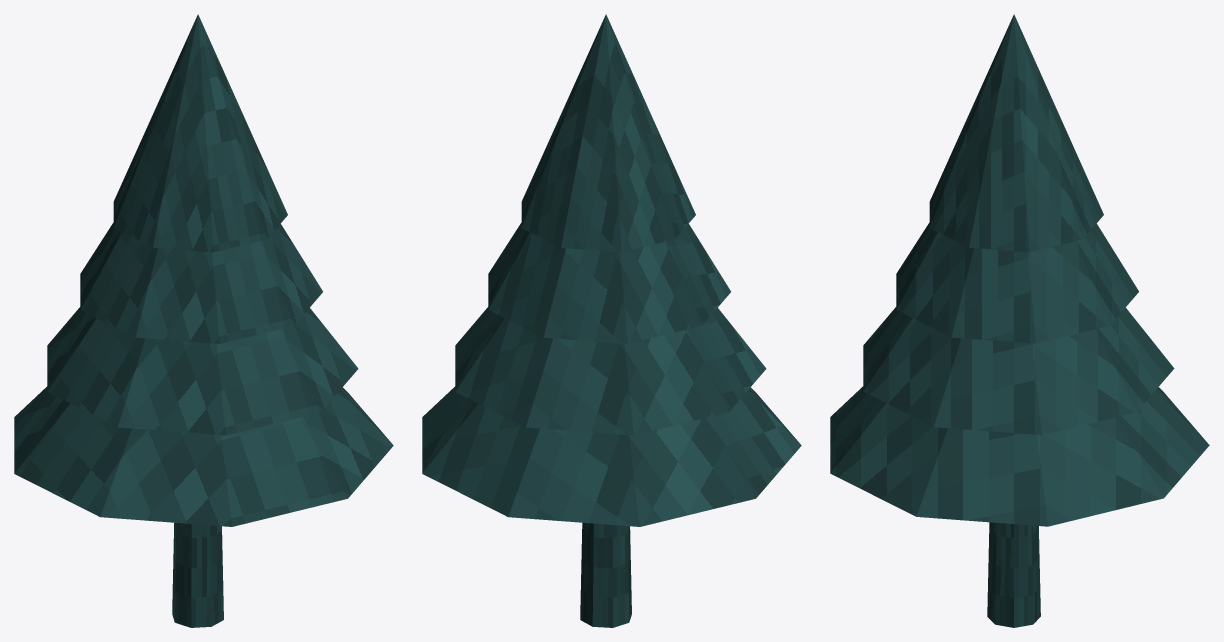
The model's file is pine_22.glb.
3 views of the same model, side by side, from view 1: azimuth 30°, elevation 25°; view 2: azimuth 150°, elevation 25°; view 3: azimuth 270°, elevation 25° (orthographic).
Visible parts, largest first — view 1: Needles, Needles.001, Needles.003, Needles.002, Trunk; view 2: Needles, Needles.001, Needles.003, Needles.002, Trunk; view 3: Needles, Needles.001, Needles.003, Needles.002, Trunk.
Boxes of the visible parts, <box> form: Needles: <box>14,386,393,526</box>; Needles.001: <box>47,307,358,435</box>; Needles.003: <box>113,14,287,252</box>; Needles.002: <box>80,222,322,343</box>; Trunk: <box>172,522,223,627</box>; Needles: <box>422,386,801,526</box>; Needles.001: <box>455,307,766,435</box>; Needles.003: <box>521,14,695,252</box>; Needles.002: <box>488,222,730,343</box>; Trunk: <box>580,522,631,627</box>; Needles: <box>830,386,1209,526</box>; Needles.001: <box>863,307,1174,435</box>; Needles.003: <box>929,14,1103,252</box>; Needles.002: <box>896,222,1138,343</box>; Trunk: <box>987,522,1040,627</box>.
Bounding box in the file's own units: 2.87 × 4.96 × 2.83.
Materials: 1 (1 with a texture image).
